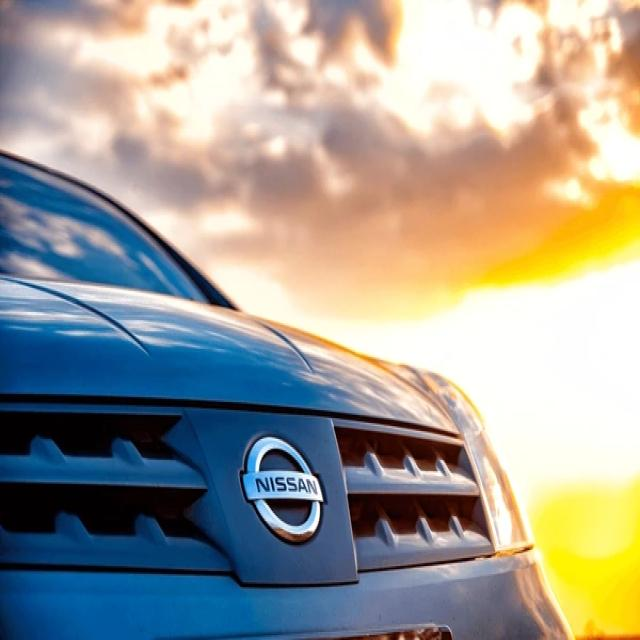nissan: (241, 428, 328, 552)
